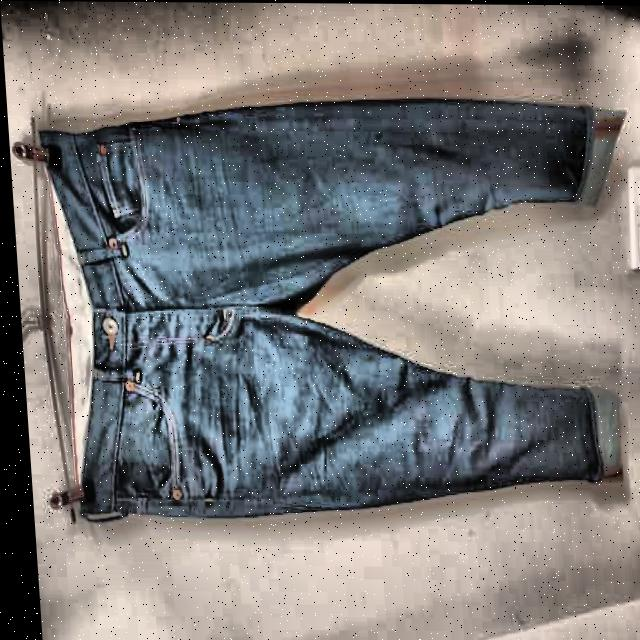clothes: (28, 93, 640, 530)
